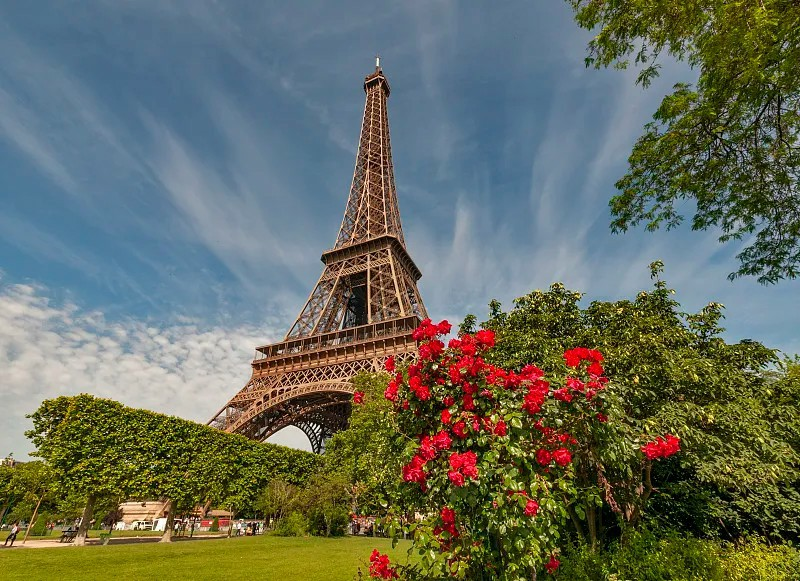Eiffel: (203, 53, 444, 457)
